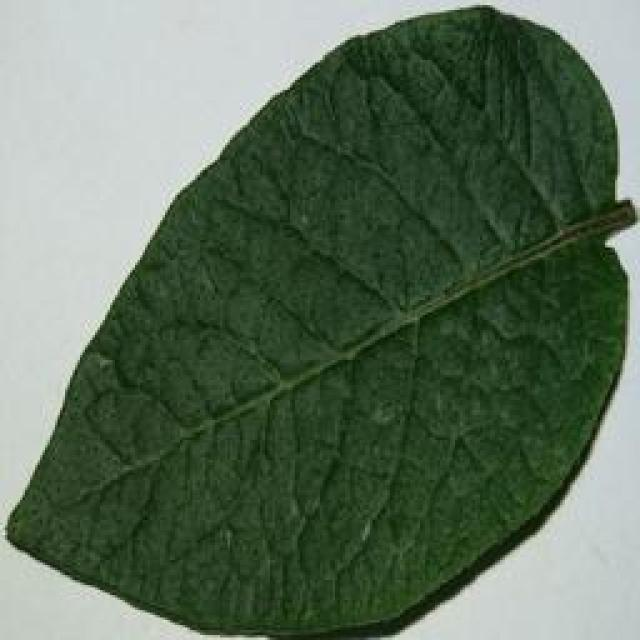Potato_Healthy: (10, 8, 626, 632)
